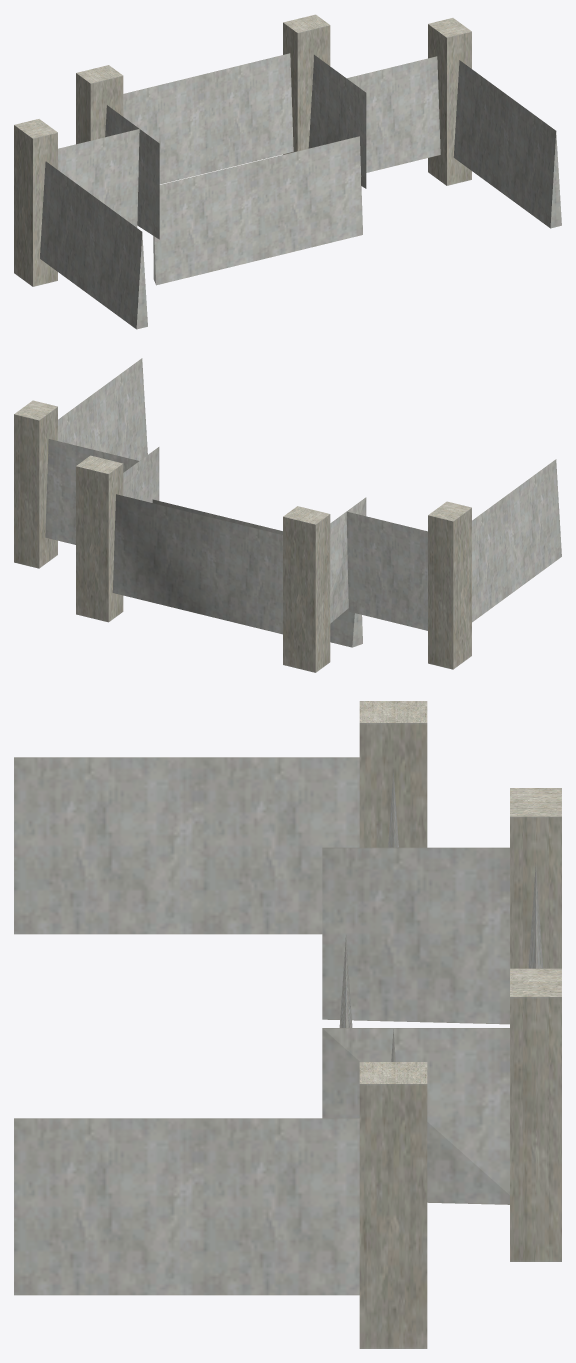
File: poi_corl_corral_half_32x32_s03_l1.fbx
3 renders of one model, top to bottom at view 1: azimuth 30°, elevation 25°; view 2: azimuth 150°, elevation 25°; view 3: azimuth 270°, elevation 25°, orthographic. The views are drawn at different scales.
Visible parts, largest first — view 1: mesh_node; view 2: mesh_node; view 3: mesh_node.
Part boxes in pixels (x1,y1,x2,y2): mesh_node: (14, 14, 561, 329); mesh_node: (14, 358, 561, 672); mesh_node: (14, 701, 561, 1348).
Size of the model in its own units: 19.1 by 7.05 by 11.55.
